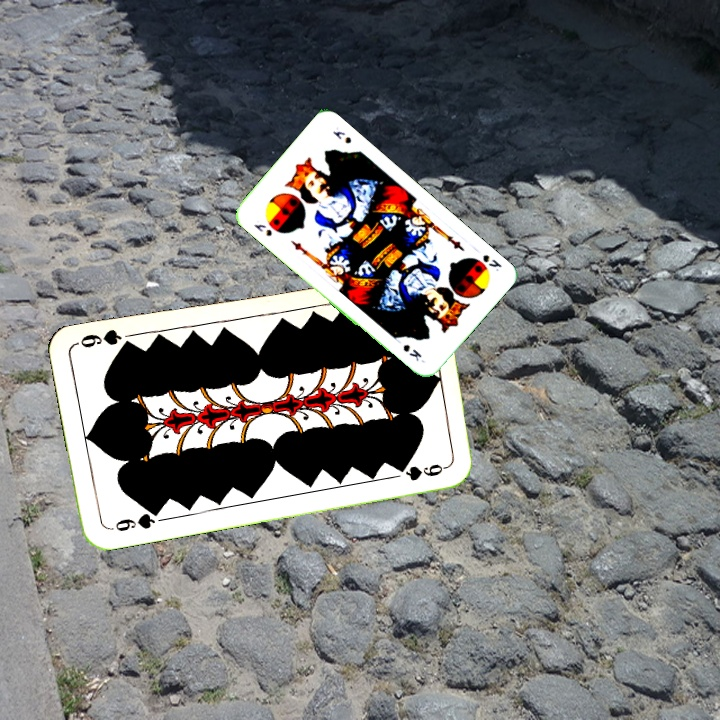G9: (105, 506, 163, 534)
SK: (478, 250, 504, 274), (250, 220, 275, 239)
